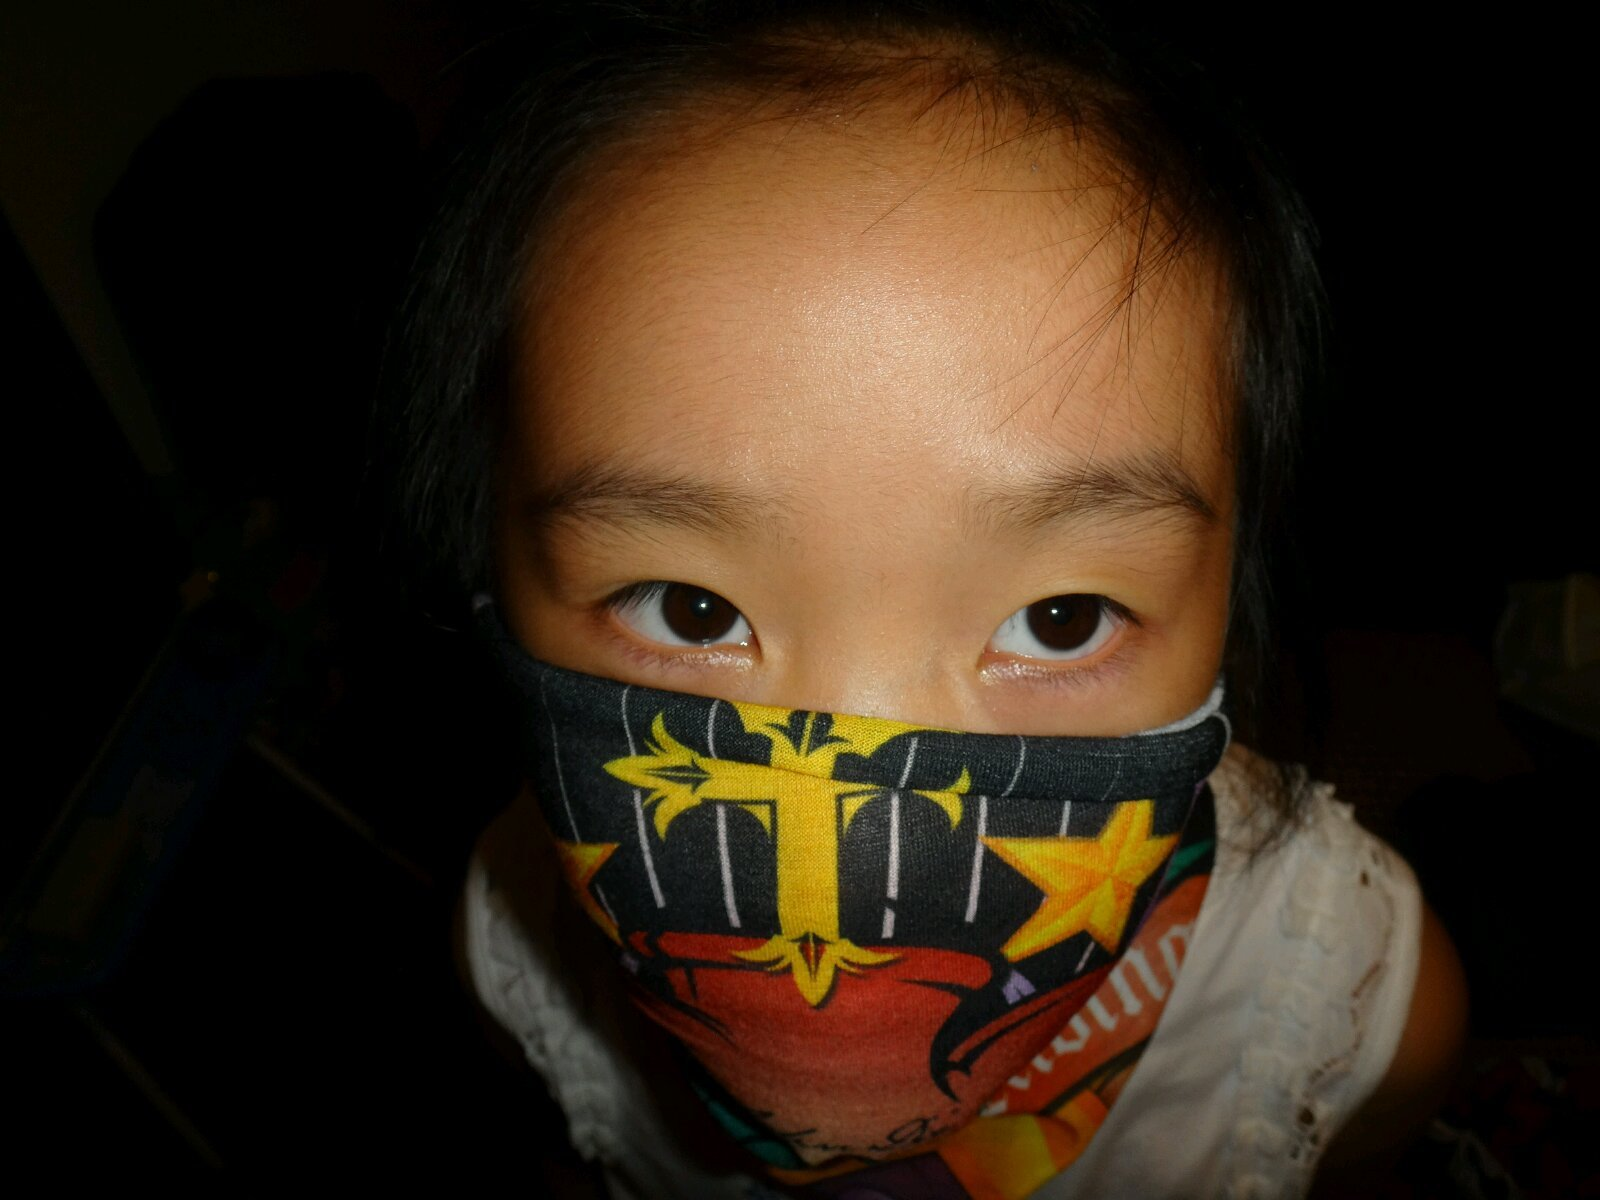face_mask: (471, 140, 1230, 1144)
